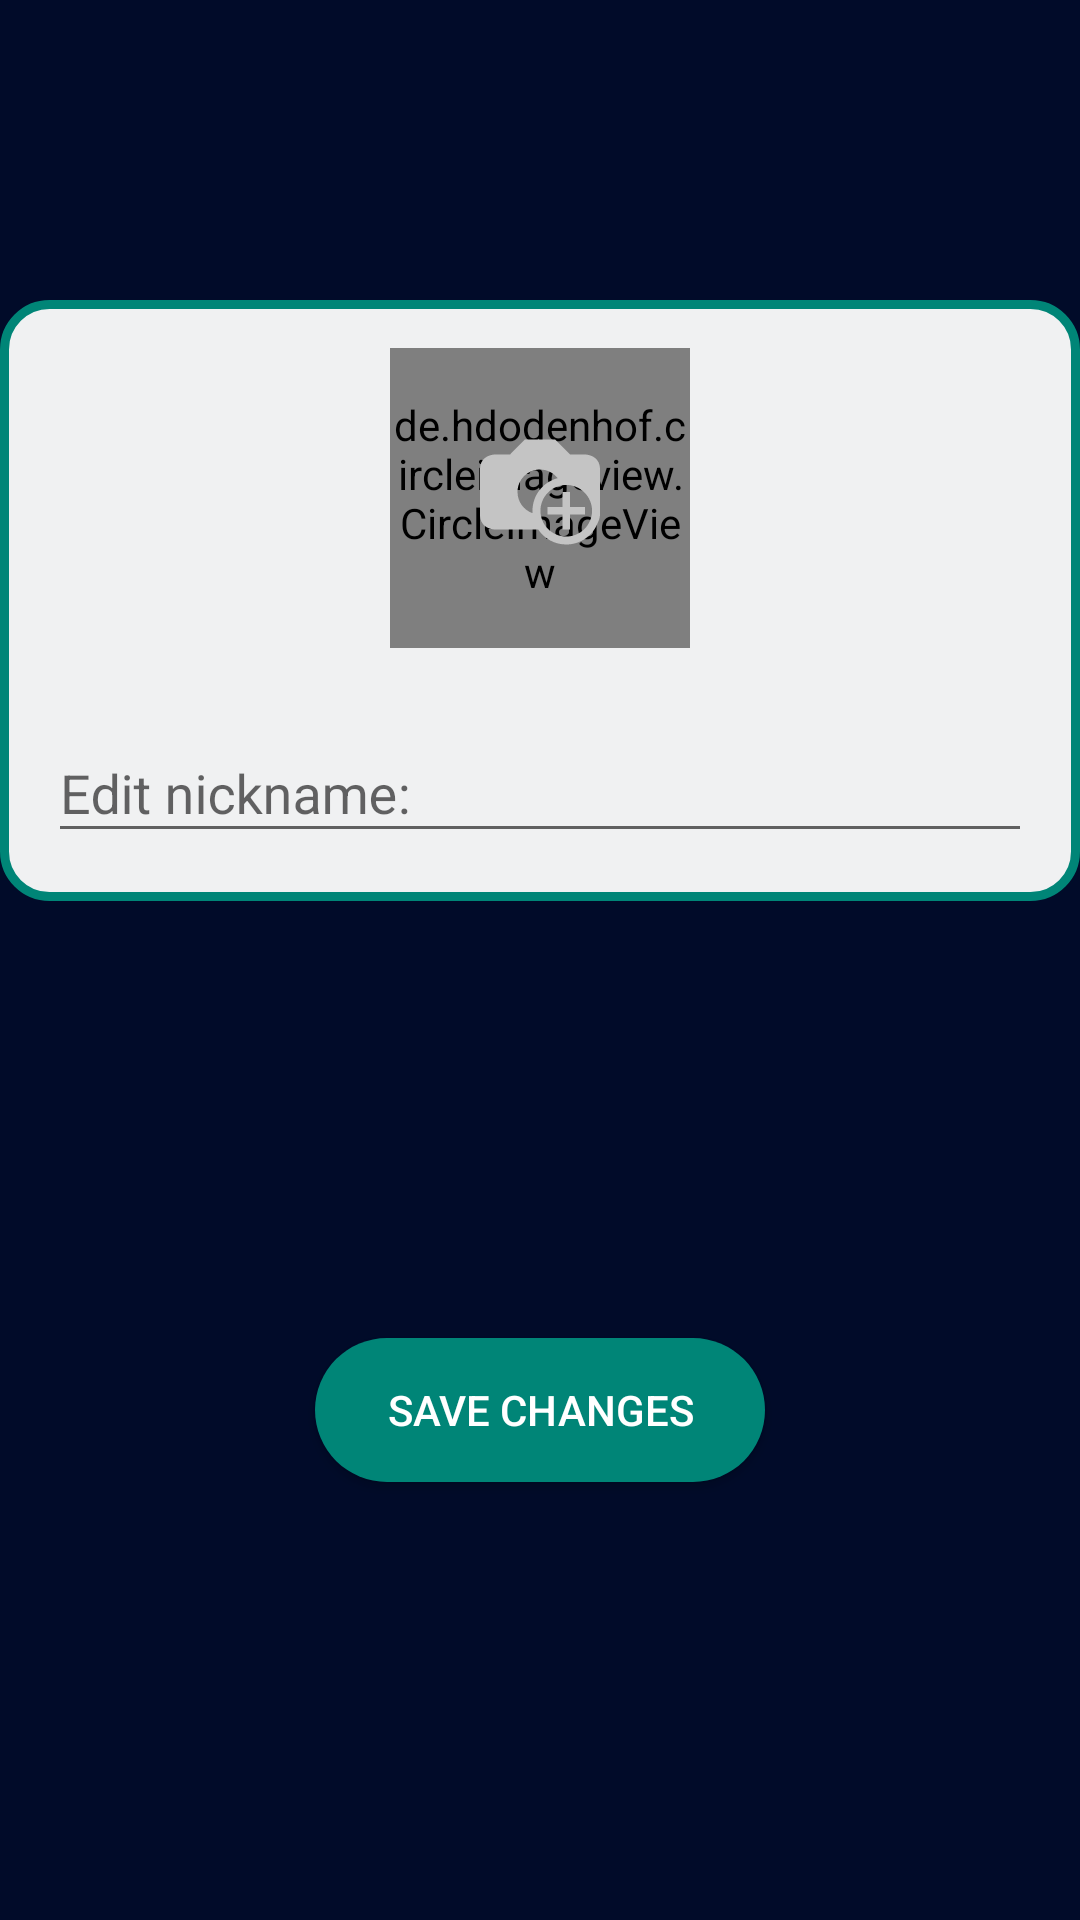

Icon click points for this 1080 × 1920 phone screenshot, format [x,y]:
add: [540,490]
